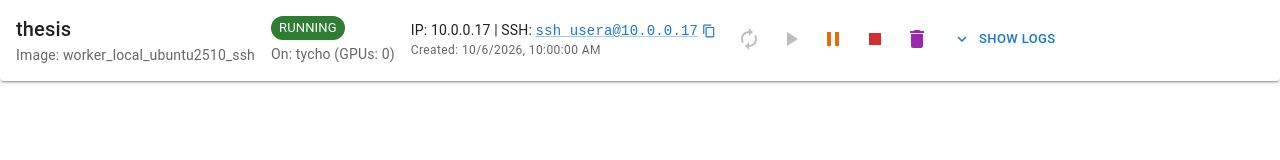
Test: a running container opens no socket and its log is the stored one
This screenshot has width=1280, height=160.
Click the button with test id "container-logs-toggle" at (1005, 39), box [950,24,1060,54]
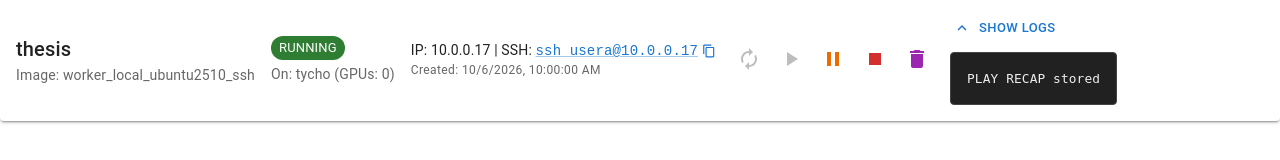
Result: the text with test id "container-log" reads "PLAY RECAP stored" at [967,71,1100,86]
